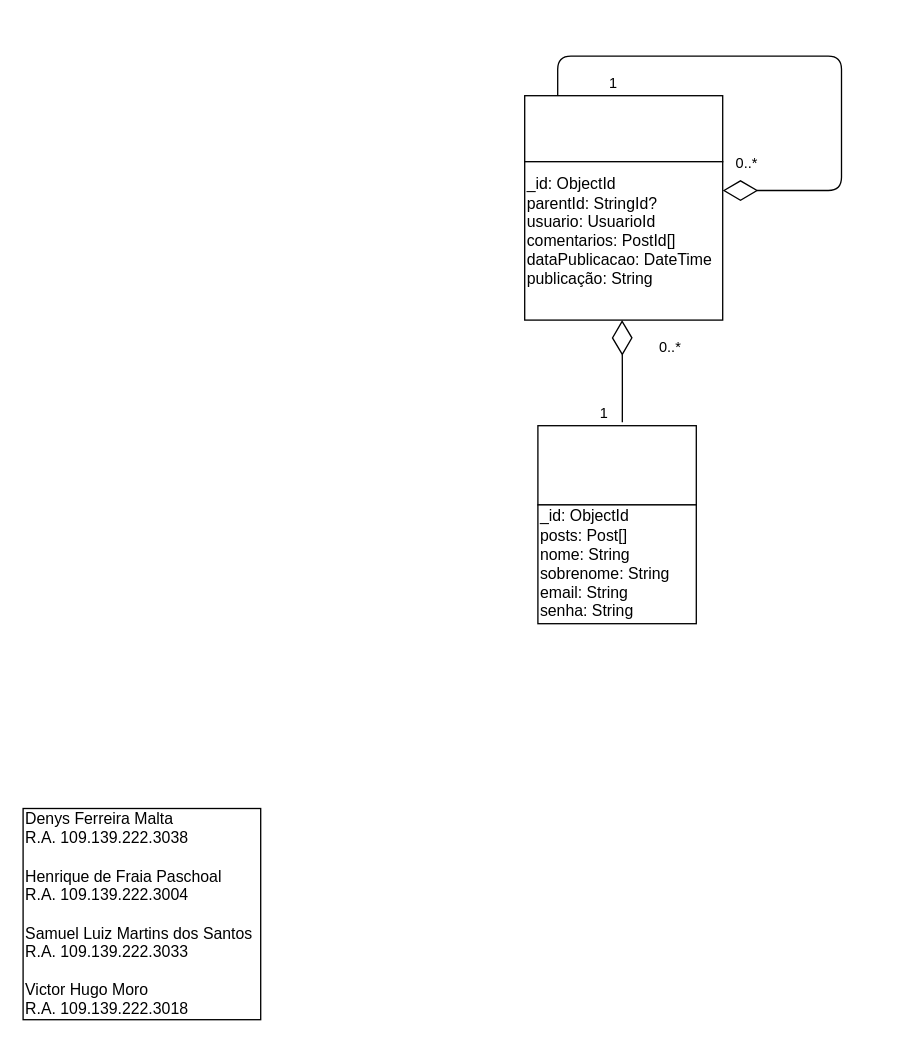
This 899x1043 diagram has some shape labels left out. The shapes that lost their labels are listed below. From the top down, each one's box as (x1, y1, x2, y2) in pixels, then its label:
(523, 94, 723, 162): Post
(537, 424, 696, 505): Usuario
